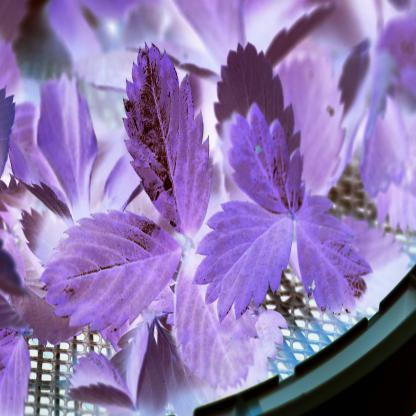strawberry leaf: (113, 38, 216, 239), (41, 212, 196, 331), (191, 194, 296, 321), (228, 99, 306, 218), (293, 189, 369, 307)
